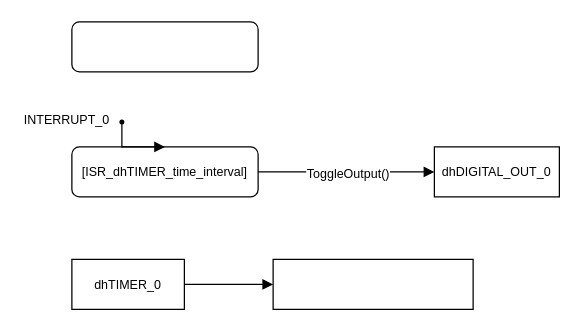
Some shapes in this 581 by 331 pixel diagram are drawn without their labels. Each missing label, with the centre of its shape:
INTERRUPT_0 [ISR_dhTIMER_time_interval]: pixel 372 283
main( ): pixel 164 46
